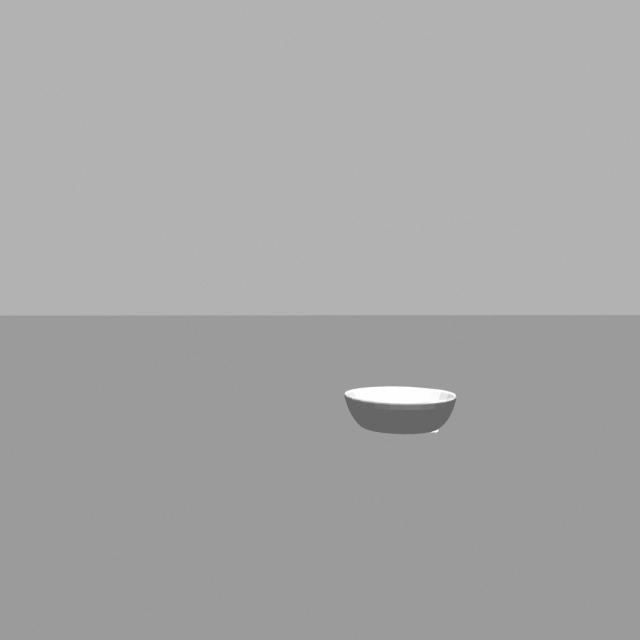bowl: (339, 364, 464, 439)
